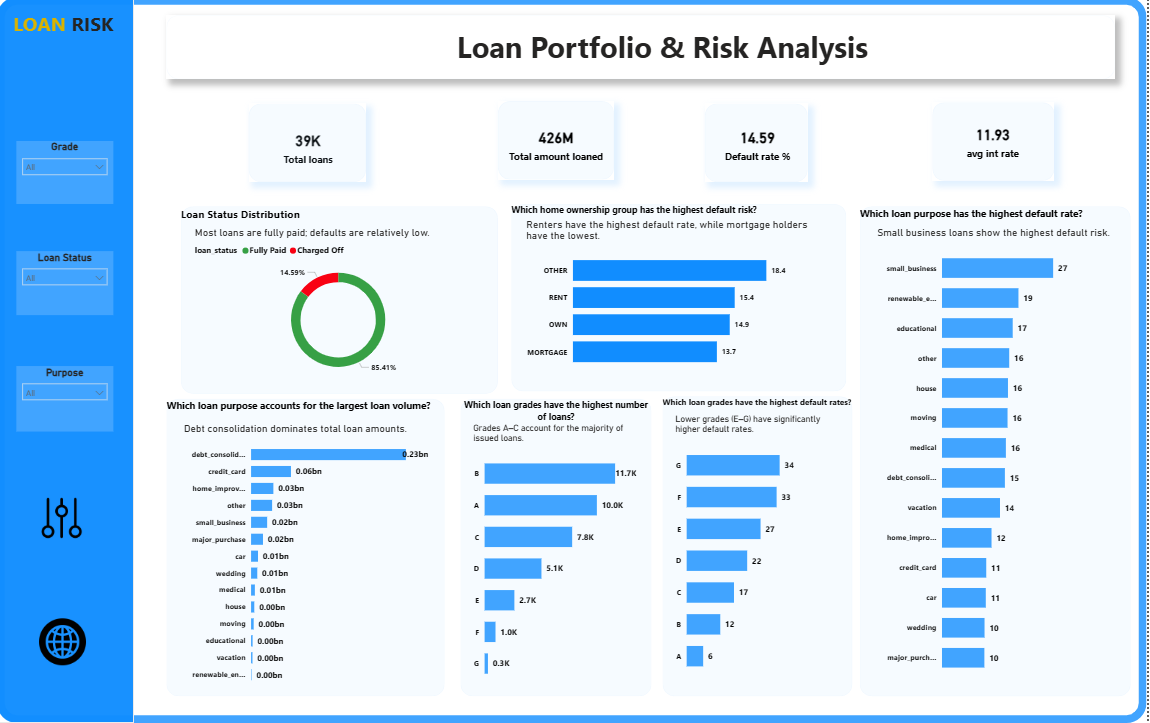

What the dashboard file says about the page in this screenshot:
{"tool":"powerbi","page":{"name":"Page 1","canvas":[1900,1200],"ordinal":0},"visuals":[{"type":"shape","box":[0,0,1900,1200],"z":0},{"type":"shape","box":[1546,174,202,130],"z":1000},{"type":"shape","box":[1170,176,170,130],"z":2000},{"type":"shape","box":[0,0,226,1200],"z":3000},{"type":"shape","title":"Which home ownership group has the highest default risk?","box":[850,342,554,310],"z":4000},{"type":"shape","box":[828,172,192,130],"z":6000},{"type":"shape","box":[246,664,494,492],"z":7000},{"type":"shape","box":[766,664,316,492],"z":8000},{"type":"shape","box":[1100,660,314,496],"z":9000},{"type":"shape","box":[304,346,524,310],"z":11000},{"type":"shape","box":[1426,346,448,810],"z":12000},{"type":"card","fields":{"Values":["measures table.Total amount loaned"]},"box":[838,192,172,100],"z":13000},{"type":"card","fields":{"Values":["measures table.Total loans"]},"box":[418,192,192,110],"z":14000},{"type":"card","fields":{"Values":["measures table.avg int rate"]},"box":[1560,182,172,110],"z":15000},{"type":"donutChart","title":"Most loans are fully paid; defaults are relatively low.","fields":{"Y":["measures table.Total loans"],"Category":["Loan project.loan_status"]},"box":[322,380,484,258],"z":16000},{"type":"clusteredBarChart","title":"Small_business loans show the highest default risk.","fields":{"Category":["Loan project.purpose"],"Y":["measures table.Default rate %"]},"box":[1450,380,398,754],"z":17000},{"type":"clusteredBarChart","title":"Grades A–C account for the majority of issued loans.","fields":{"Category":["Loan project.grade"],"Y":["measures table.Total loans"]},"box":[782,704,280,442],"z":18000},{"type":"card","fields":{"Values":["measures table.Default rate"]},"box":[1196,182,122,120],"z":19000},{"type":"clusteredBarChart","title":"Renters have the highest default rate, while mortgage holders have the lowest.","fields":{"Y":["measures table.Default rate %"],"Category":["Loan project.home_ownership"]},"box":[870,366,512,262],"z":20000},{"type":"clusteredBarChart","title":"Lower grades (E–G) have significantly higher default rates.","fields":{"Category":["Loan project.grade"],"Y":["measures table.Default rate %"]},"box":[1116,690,280,444],"z":22000},{"type":"clusteredBarChart","title":"Debt consolidation dominates total loan amounts.","fields":{"Y":["measures table.Total amount loaned"],"Category":["Loan project.purpose"]},"box":[262,704,456,442],"z":23000},{"type":"shape","box":[416,176,194,130],"z":25000},{"type":"shape","box":[280,30,1568,106],"z":25001},{"type":"textbox","box":[586,44,1028,80],"z":25002},{"type":"slicer","title":"Loan Status","fields":{"Values":["Loan project.loan_status"]},"box":[32,420,160,106],"z":25005},{"type":"slicer","title":"Purpose","fields":{"Values":["Loan project.purpose"]},"box":[32,610,160,108],"z":25008},{"type":"slicer","title":"Grade","fields":{"Values":["Loan project.grade"]},"box":[32,238,160,104],"z":25009},{"type":"textbox","box":[22,16,180,56],"z":25010},{"type":"image","box":[62,1022,92,88],"z":25011},{"type":"image","box":[68,814,78,94],"z":25012}]}

Visuals, with their boxes on the page's 1900x1200 design canvas (x1, y1, x2, y2). These are canvas units, not pixel positions in the 1150x723 screenshot, which may show the page scaled, cropped or inside an application window:
shape: x1=0, y1=0, x2=1900, y2=1200
shape: x1=1546, y1=174, x2=1748, y2=304
shape: x1=1170, y1=176, x2=1340, y2=306
shape: x1=0, y1=0, x2=226, y2=1200
"Which home ownership group has the highest default risk?" shape: x1=850, y1=342, x2=1404, y2=652
shape: x1=828, y1=172, x2=1020, y2=302
shape: x1=246, y1=664, x2=740, y2=1156
shape: x1=766, y1=664, x2=1082, y2=1156
shape: x1=1100, y1=660, x2=1414, y2=1156
shape: x1=304, y1=346, x2=828, y2=656
shape: x1=1426, y1=346, x2=1874, y2=1156
card - measures table.Total amount loaned: x1=838, y1=192, x2=1010, y2=292
card - measures table.Total loans: x1=418, y1=192, x2=610, y2=302
card - measures table.avg int rate: x1=1560, y1=182, x2=1732, y2=292
"Most loans are fully paid; defaults are relatively low." donutChart: x1=322, y1=380, x2=806, y2=638
"Small_business loans show the highest default risk." clusteredBarChart: x1=1450, y1=380, x2=1848, y2=1134
"Grades A–C account for the majority of issued loans." clusteredBarChart: x1=782, y1=704, x2=1062, y2=1146
card - measures table.Default rate: x1=1196, y1=182, x2=1318, y2=302
"Renters have the highest default rate, while mortgage holders have the lowest." clusteredBarChart: x1=870, y1=366, x2=1382, y2=628
"Lower grades (E–G) have significantly higher default rates." clusteredBarChart: x1=1116, y1=690, x2=1396, y2=1134
"Debt consolidation dominates total loan amounts." clusteredBarChart: x1=262, y1=704, x2=718, y2=1146
shape: x1=416, y1=176, x2=610, y2=306
shape: x1=280, y1=30, x2=1848, y2=136
textbox: x1=586, y1=44, x2=1614, y2=124
"Loan Status" slicer: x1=32, y1=420, x2=192, y2=526
"Purpose" slicer: x1=32, y1=610, x2=192, y2=718
"Grade" slicer: x1=32, y1=238, x2=192, y2=342
textbox: x1=22, y1=16, x2=202, y2=72
image: x1=62, y1=1022, x2=154, y2=1110
image: x1=68, y1=814, x2=146, y2=908
